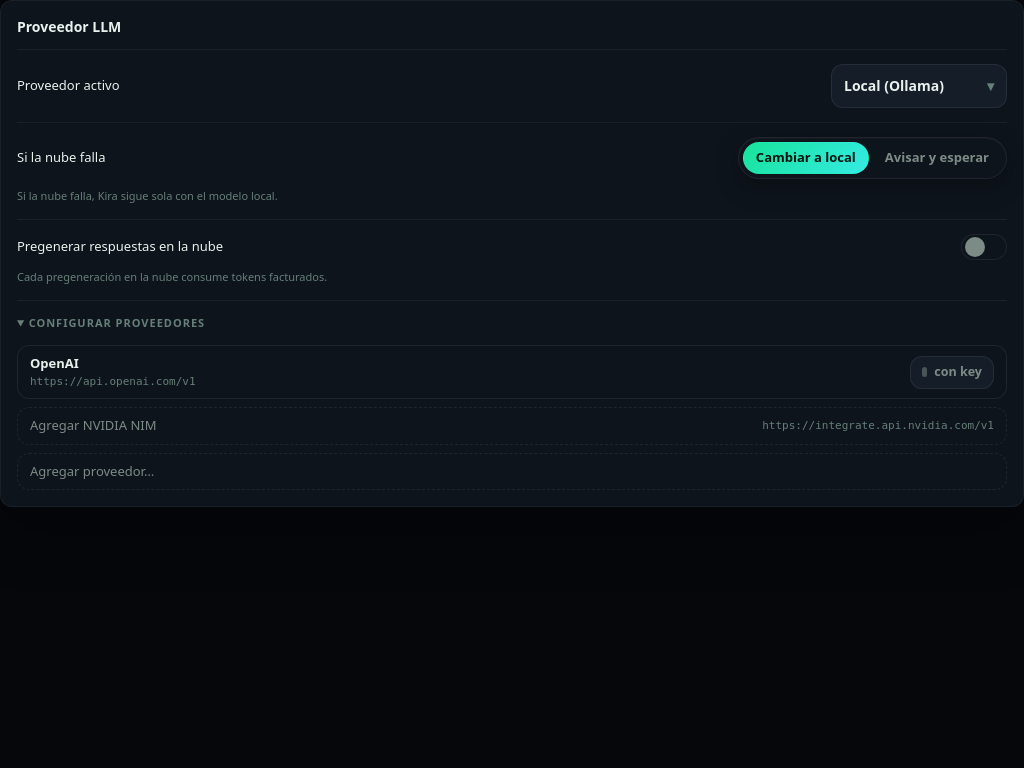
ProviderCard active-provider selector is a selector-only switch › surfaces the exact activation-time missing field and does NOT show a fake success
The width and height of the screenshot is (1024, 768).
Click the dropdown named "Proveedor activo".
click(919, 86)  # box [831,64,1007,108]
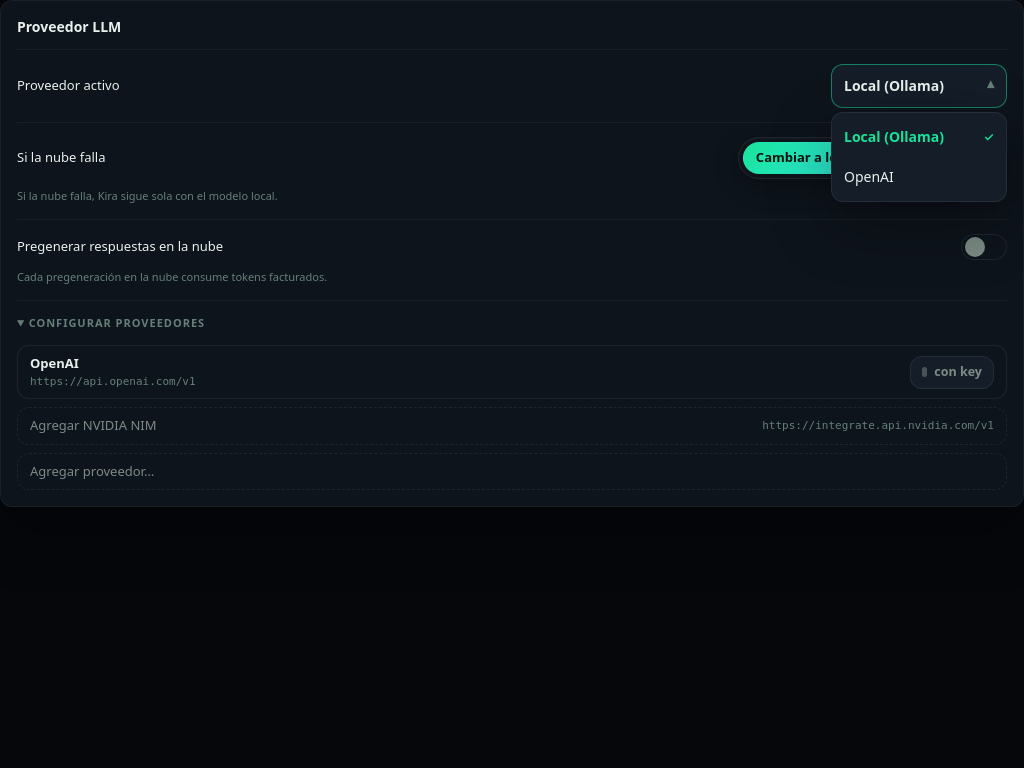
Click the option "OpenAI".
click(869, 176)  # box [844,167,894,186]
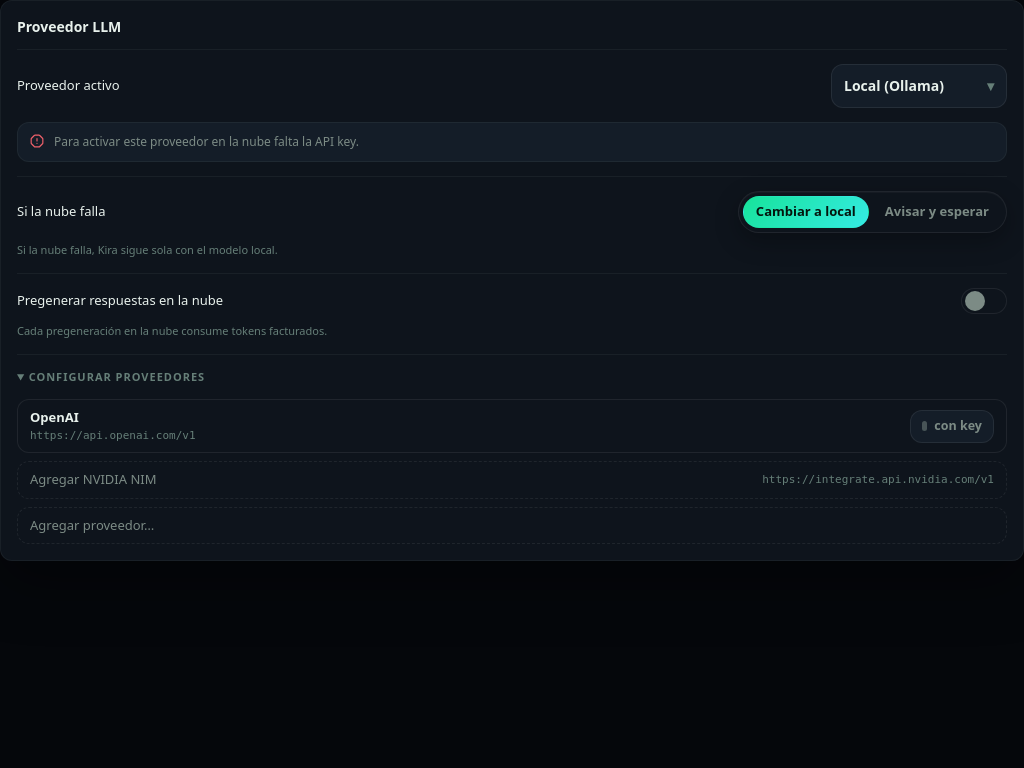
Expected: the dropdown named "Proveedor activo" shows "Local (Ollama)", [831,64,1007,108]
Expected: the message reads "Para activar este proveedor en la nube falta la API key.", [54,133,359,150]
